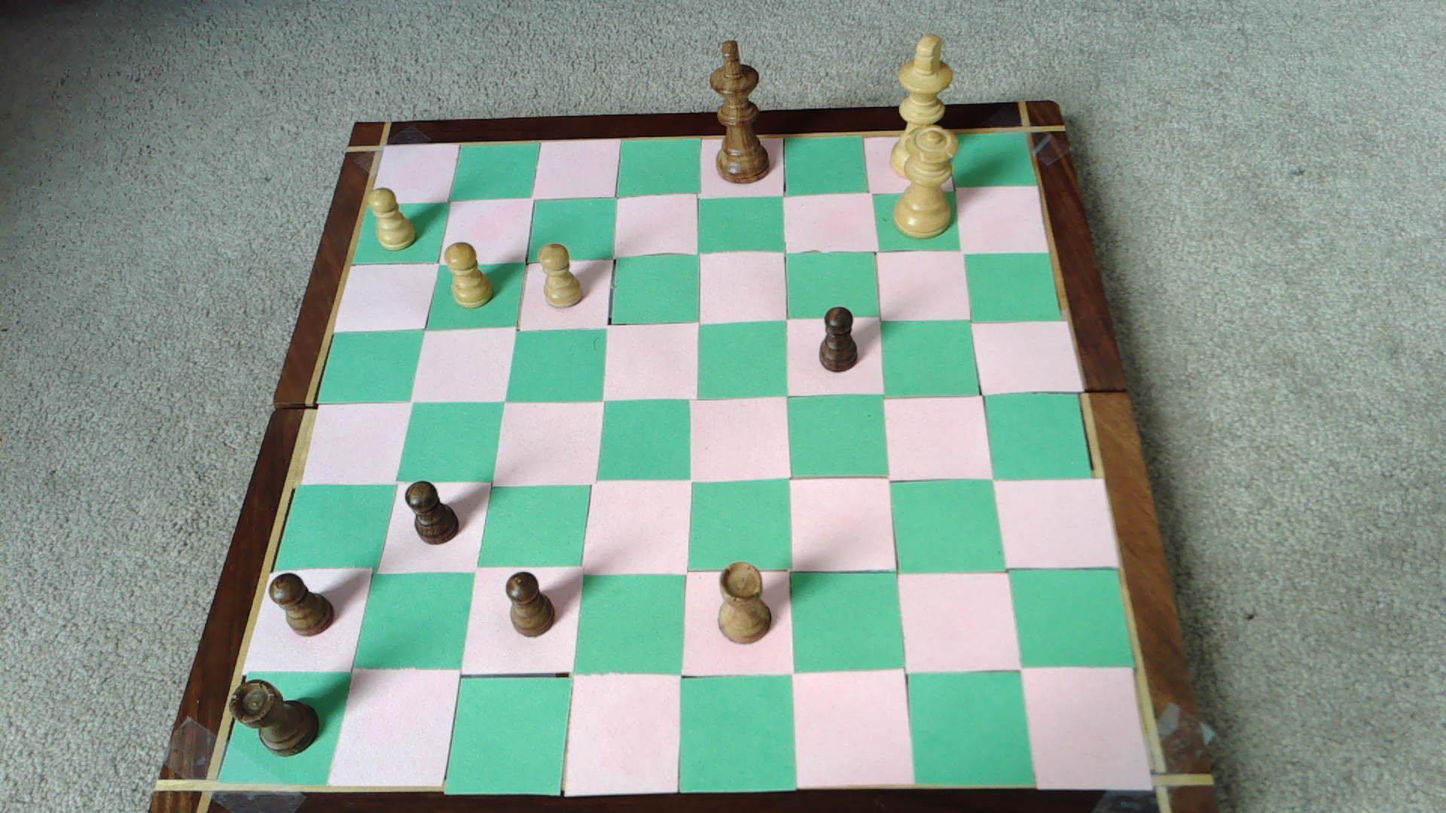dark_piece: (712, 41, 771, 182), (231, 680, 319, 754), (719, 561, 771, 643), (270, 573, 333, 635), (406, 481, 458, 543), (505, 571, 554, 636), (820, 308, 858, 373)
white_piece: (890, 35, 955, 177), (893, 128, 959, 237), (444, 242, 493, 307), (539, 243, 584, 307), (370, 188, 416, 250)
